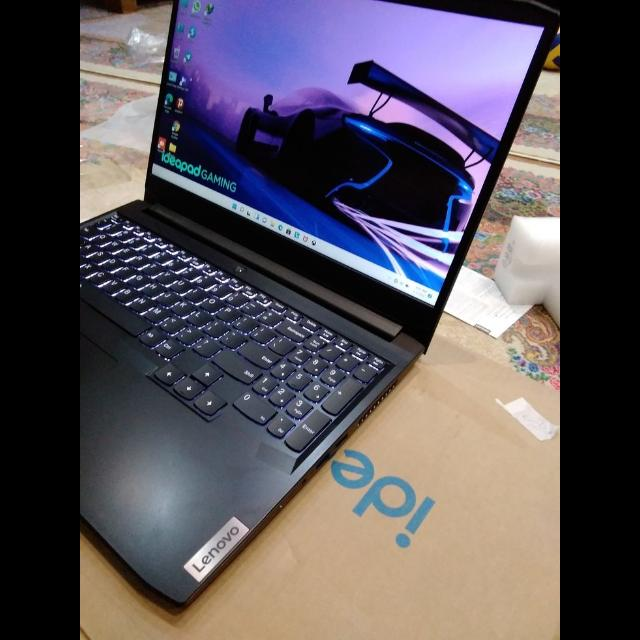laptop: (80, 0, 557, 603)
